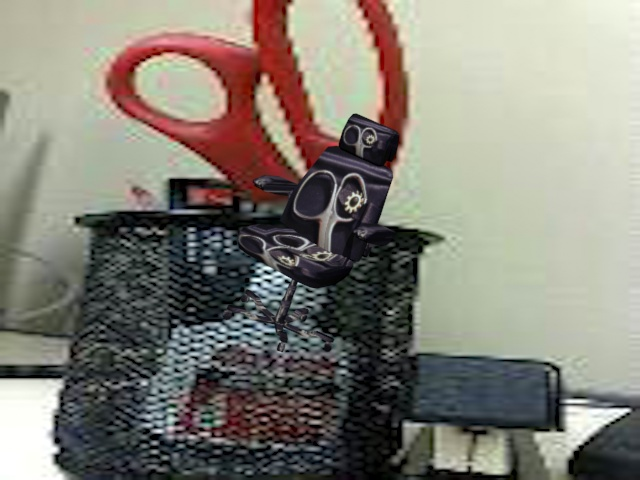desk_chair: (217, 113, 400, 360)
